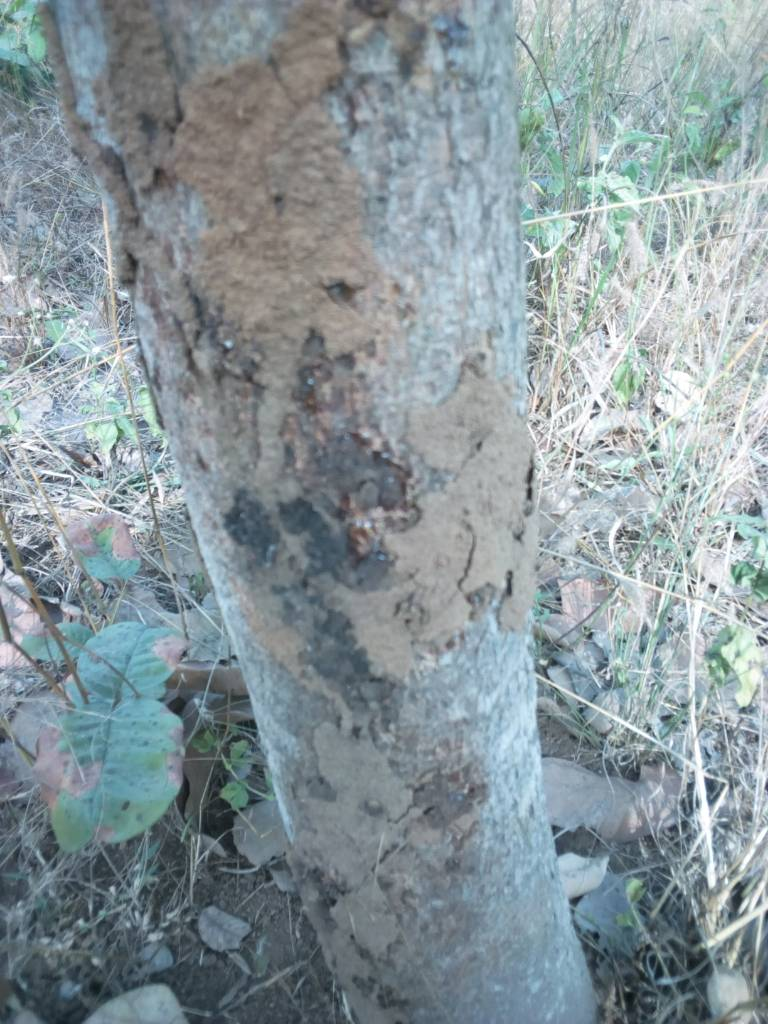Termites: (111, 27, 397, 416), (277, 507, 463, 903), (458, 388, 543, 614)
